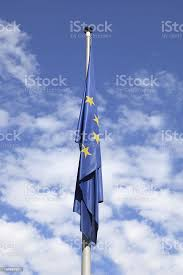Flag: (73, 51, 103, 248)
